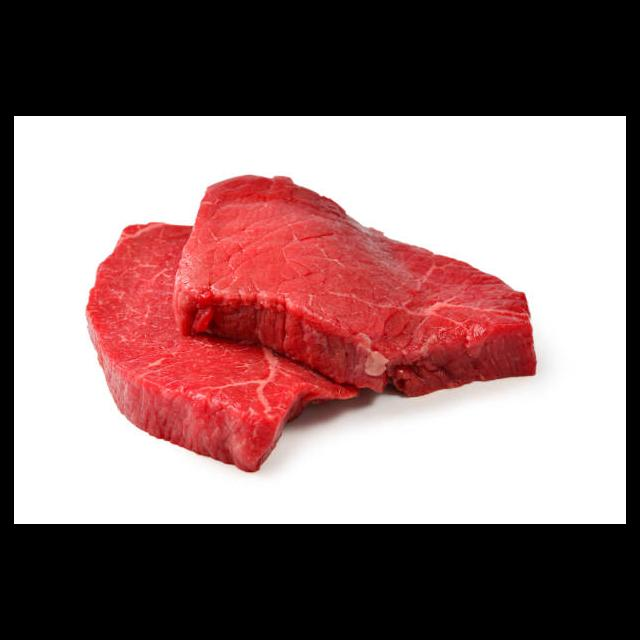beef: (84, 173, 539, 472)
